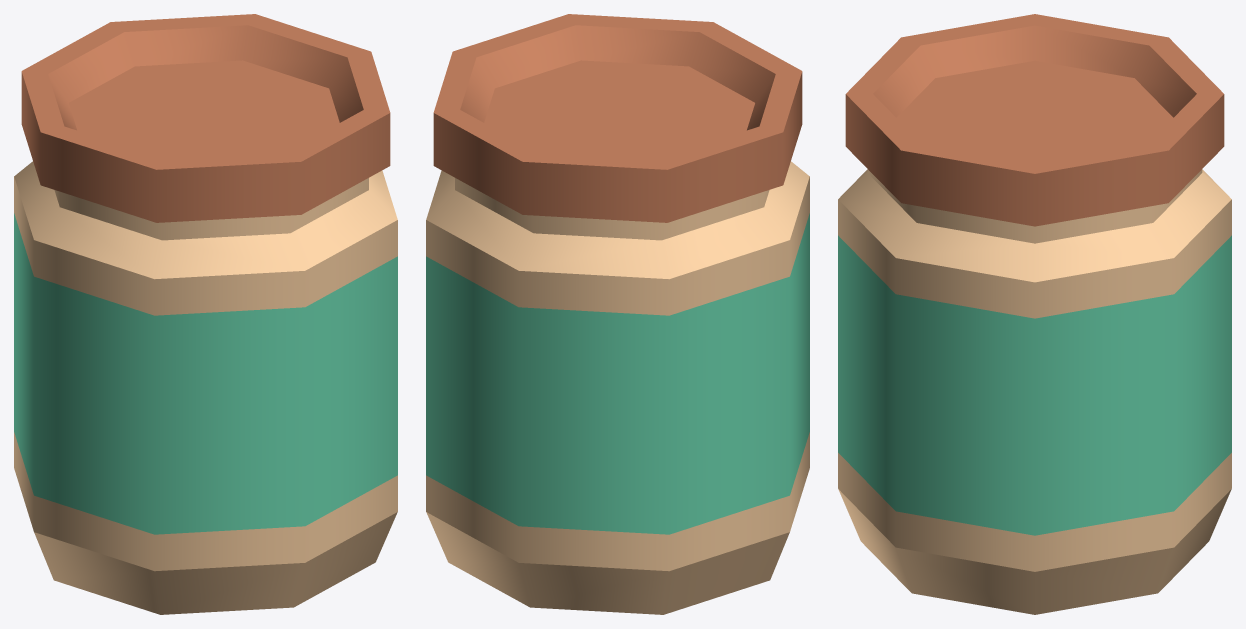
Rendered from peanut_butter.gltf.
3 renders of one model, left to right at view 1: azimuth 30°, elevation 25°; view 2: azimuth 150°, elevation 25°; view 3: azimuth 270°, elevation 25°, orthographic.
Visible parts, largest first — view 1: peanutButter; view 2: peanutButter; view 3: peanutButter.
Boxes of the visible parts, x1,y1,x2,y2 form: peanutButter: (14, 14, 397, 614); peanutButter: (426, 14, 809, 614); peanutButter: (838, 14, 1231, 614).
Size of the model in its own units: 0.2359 by 0.2958 by 0.2359.
